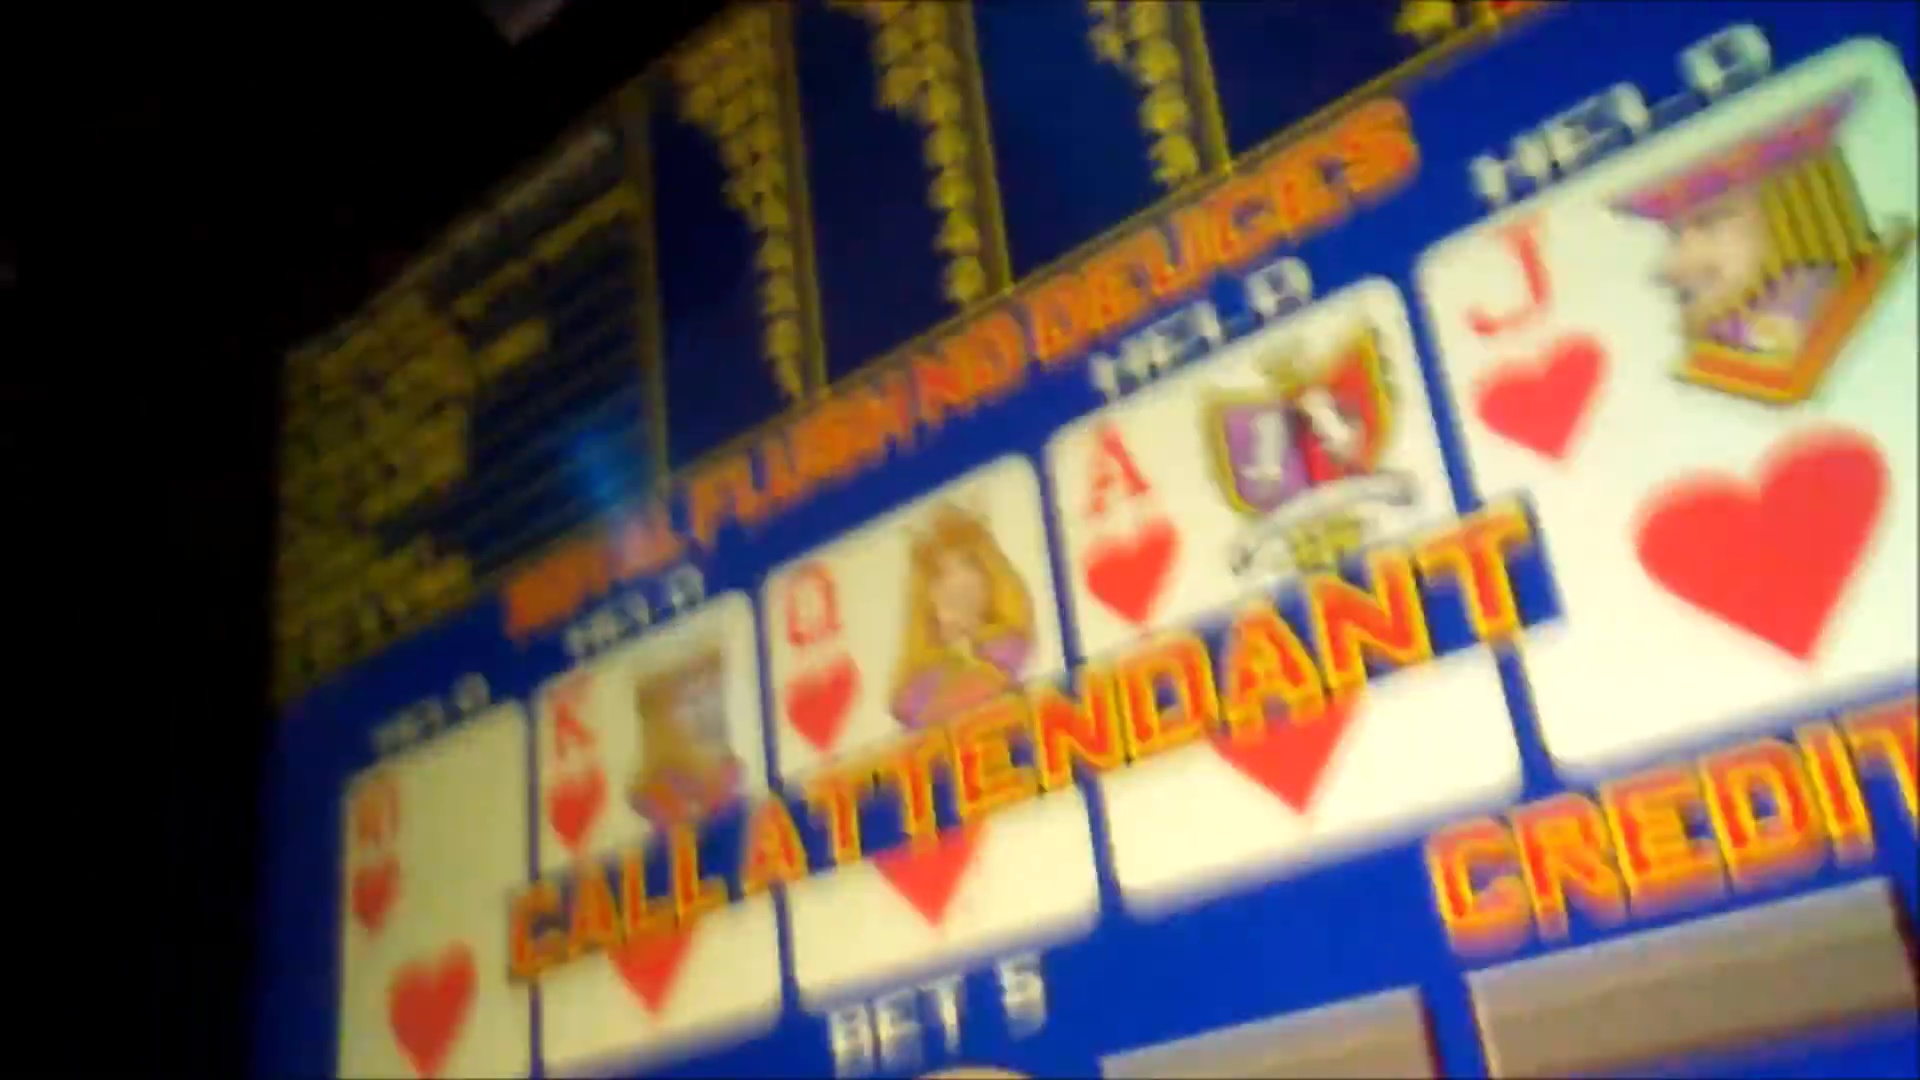AH: (1048, 411, 1338, 556)
JH: (1455, 218, 1894, 439)
QH: (770, 564, 982, 694)
TH: (335, 775, 498, 916)
